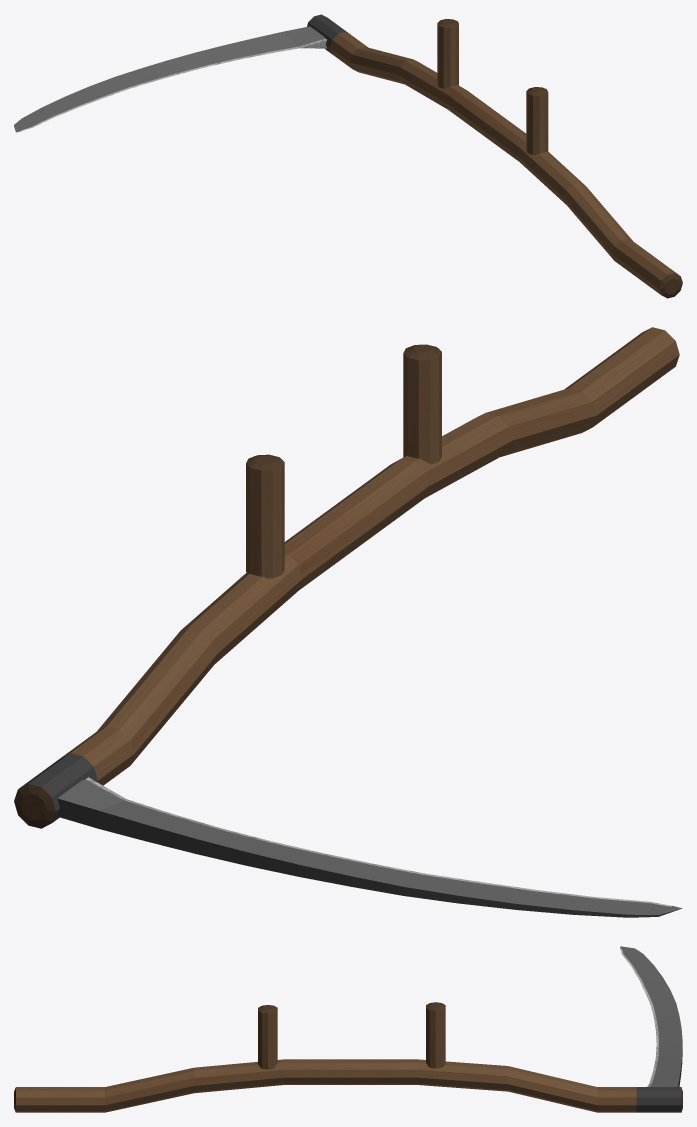
File: WorldItem_GrassScythe.fbx
3 renders of one model, top to bottom at view 1: azimuth 30°, elevation 25°; view 2: azimuth 150°, elevation 25°; view 3: azimuth 270°, elevation 25°, orthographic. The views are drawn at different scales.
Parts seen in each view (by area): view 1: ZomboidGrassScythe; view 2: ZomboidGrassScythe; view 3: ZomboidGrassScythe.
Part boxes in pixels (x1,y1,x2,y2): ZomboidGrassScythe: [14, 14, 682, 298]; ZomboidGrassScythe: [14, 327, 682, 917]; ZomboidGrassScythe: [14, 946, 682, 1112].
Bounding box in the file's own units: 0.5469 × 0.1696 × 0.9712.
